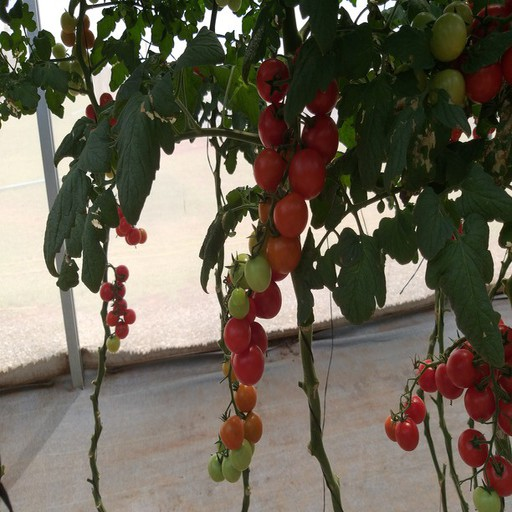green tomato bunch: (48, 1, 93, 99)
red tomato bunch: (222, 40, 340, 389), (446, 325, 512, 497), (411, 3, 512, 105), (384, 352, 461, 458), (100, 262, 139, 351), (105, 203, 147, 243)
